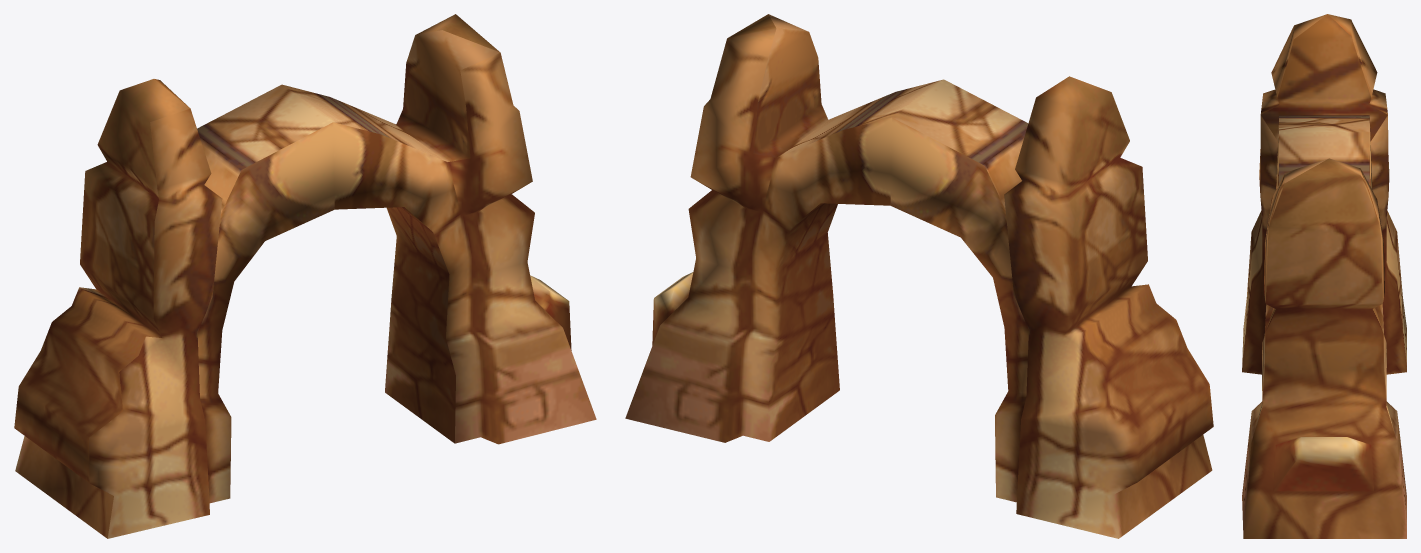
File: sm_shimen1.fbx
3 renders of one model, left to right at view 1: azimuth 30°, elevation 25°; view 2: azimuth 150°, elevation 25°; view 3: azimuth 270°, elevation 25°, orthographic. The views are drawn at different scales.
Visible parts, largest first — view 1: sm_shimen1; view 2: sm_shimen1; view 3: sm_shimen1.
Boxes of the visible parts, <box> form: sm_shimen1: <box>14,14,596,538</box>; sm_shimen1: <box>625,14,1213,538</box>; sm_shimen1: <box>1242,14,1406,538</box>.
Bounding box in the file's own units: 2317 × 1772 × 746.
